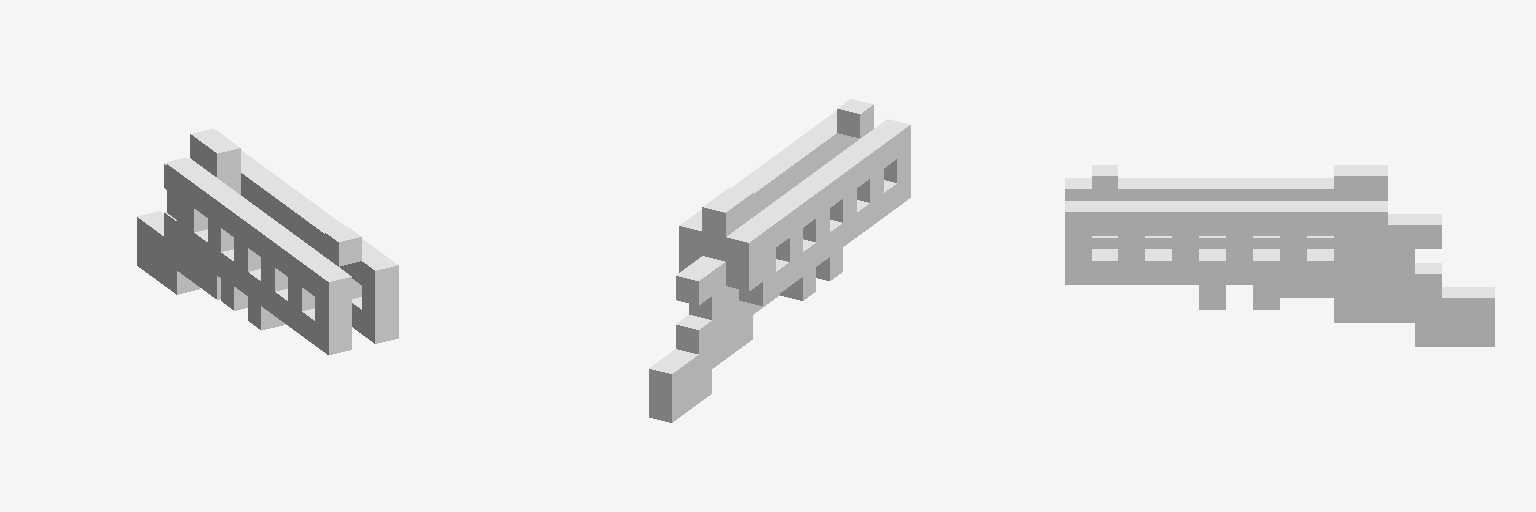
The model's file is shotGun.obj.
The picture shows the model from 3 angles: view 1: azimuth 30°, elevation 25°; view 2: azimuth 150°, elevation 25°; view 3: azimuth 270°, elevation 25°; orthographic projection.
Size of the model in its own units: 3 by 7 by 16.